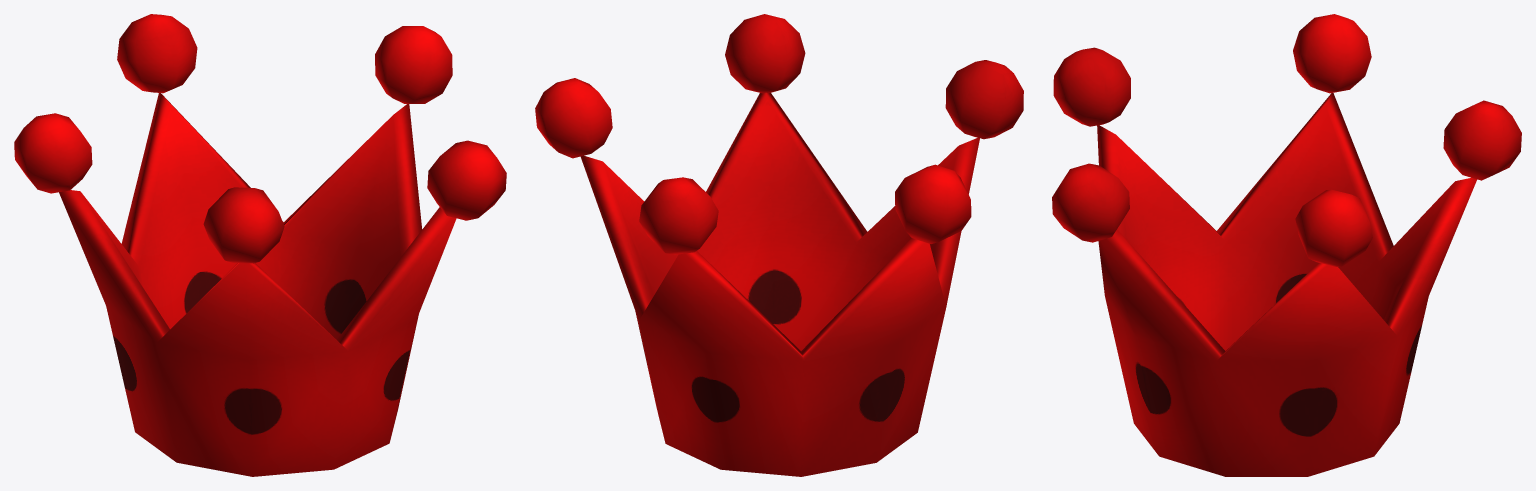
Rendered from M_CrownB.glb.
3 views of the same model, side by side, from view 1: azimuth 30°, elevation 25°; view 2: azimuth 150°, elevation 25°; view 3: azimuth 270°, elevation 25° (orthographic).
Parts seen in each view (by area): view 1: SM_Crown; view 2: SM_Crown; view 3: SM_Crown.
Boxes of the visible parts, x1,y1,x2,y2 form: SM_Crown: (14,14,506,476); SM_Crown: (535,14,1023,476); SM_Crown: (1052,14,1521,476).
Bounding box in the file's own units: 0.4276 × 0.3085 × 0.4125.
Materials: 1 (1 with a texture image).
